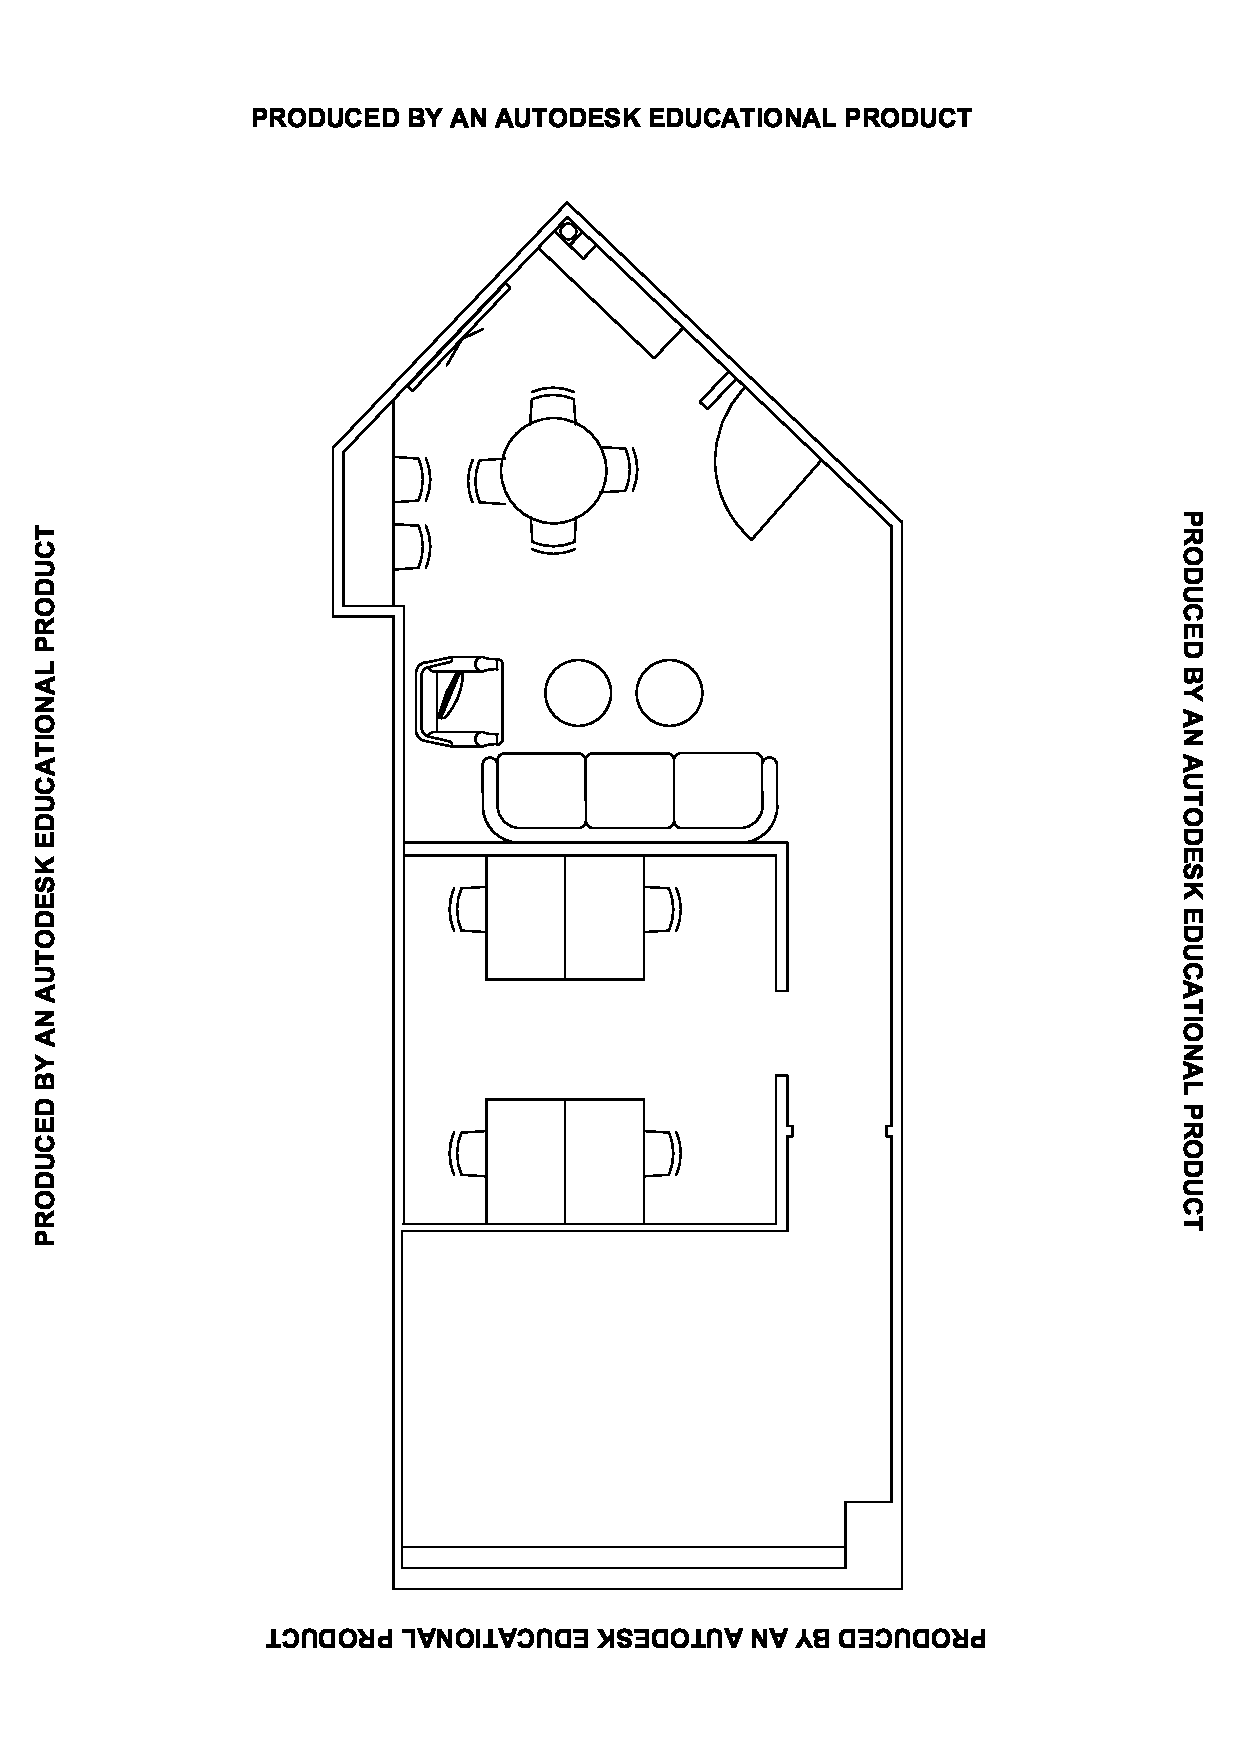door: (686, 458, 821, 560)
